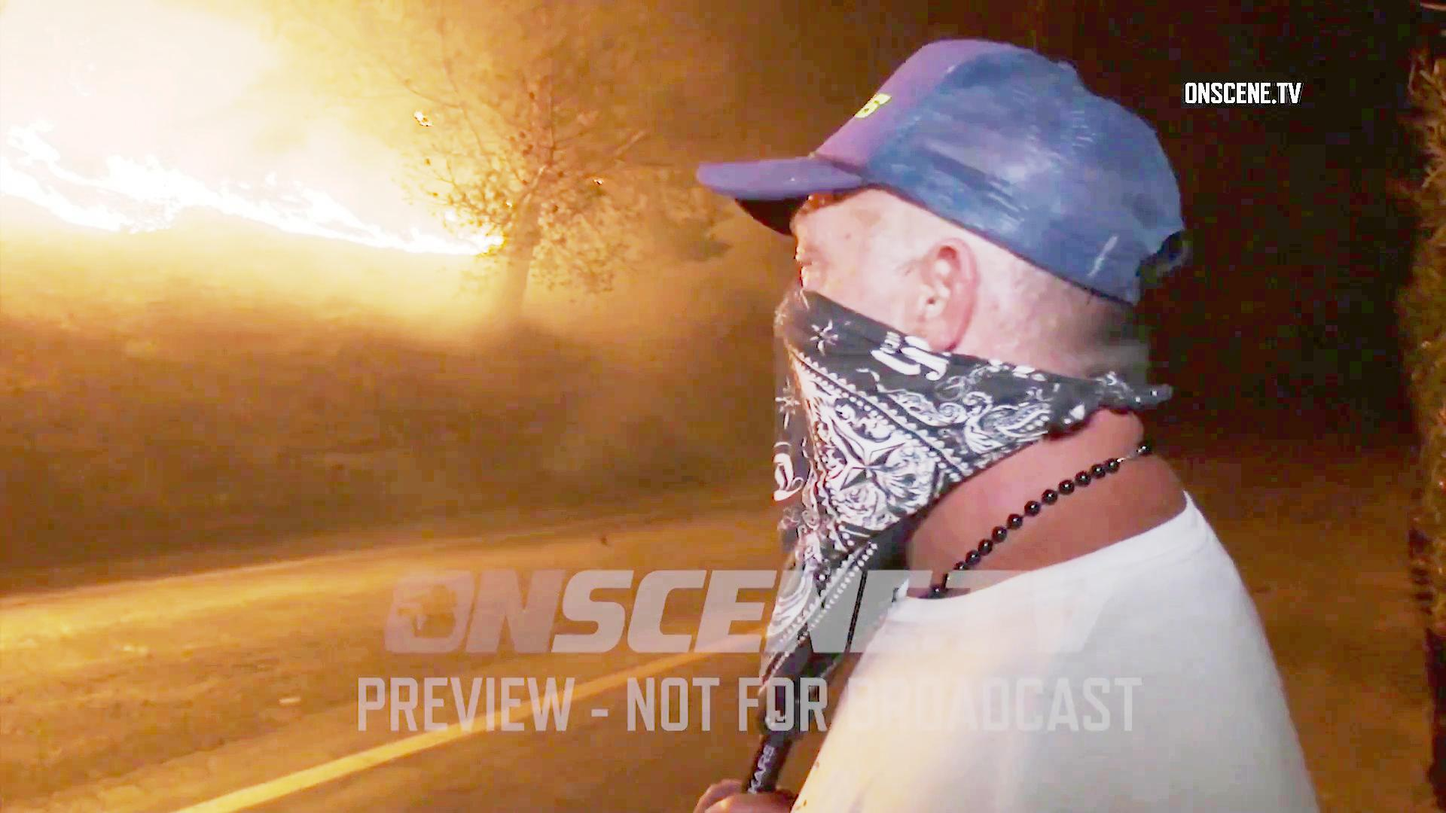fire: (0, 116, 362, 249)
